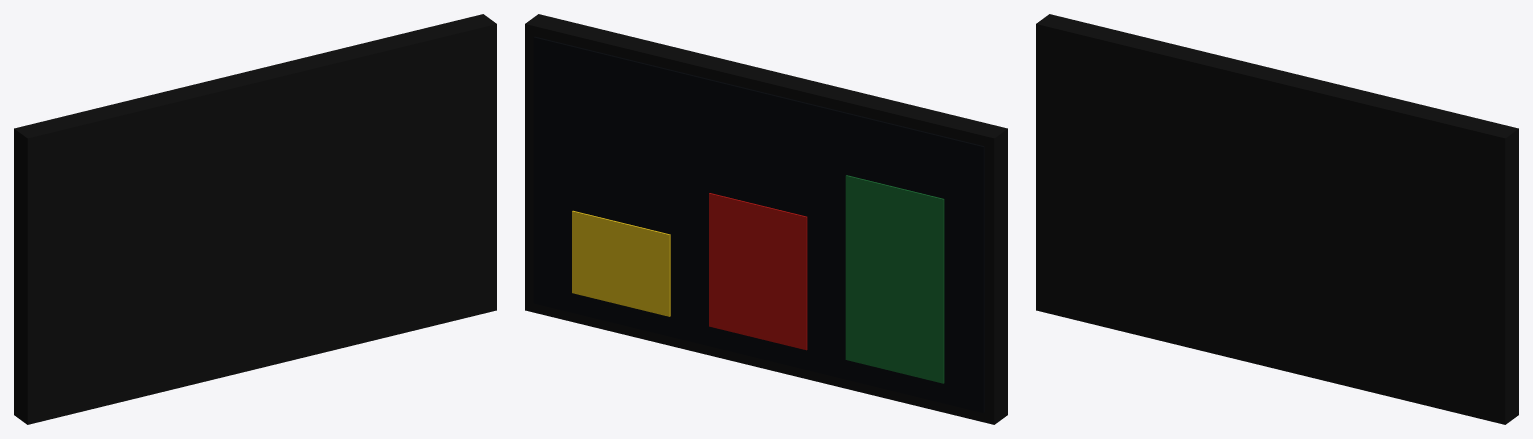
The model's file is office.council.vote_display.glb.
3 renders of one model, left to right at view 1: azimuth 30°, elevation 25°; view 2: azimuth 150°, elevation 25°; view 3: azimuth 330°, elevation 25°, orthographic.
Parts seen in each view (by area): view 1: main__plastic_black; view 2: main__screen, main__plastic_black, main__plastic_green, main__plastic_red, main__plastic_yellow; view 3: main__plastic_black.
Part boxes in pixels (<box>): main__plastic_black: <box>14,14,496,424</box>; main__screen: <box>533,36,984,412</box>; main__plastic_black: <box>525,14,1007,424</box>; main__plastic_green: <box>845,175,944,383</box>; main__plastic_red: <box>709,193,807,350</box>; main__plastic_yellow: <box>572,210,670,316</box>; main__plastic_black: <box>1036,14,1518,424</box>.
Bounding box in the file's own units: 2.4 × 1.4 × 0.137.
